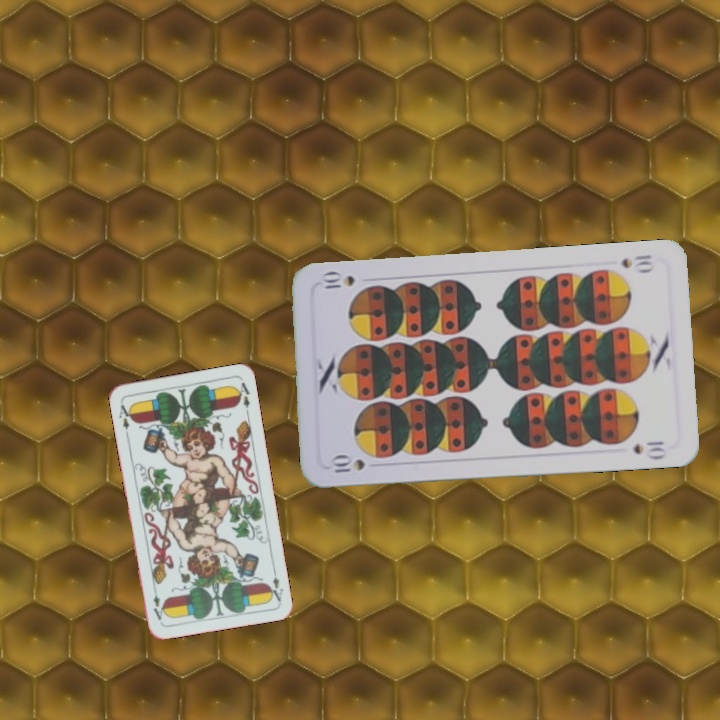EA: (114, 398, 136, 438), (265, 564, 285, 604)
S10: (618, 251, 657, 275), (326, 453, 368, 475)
